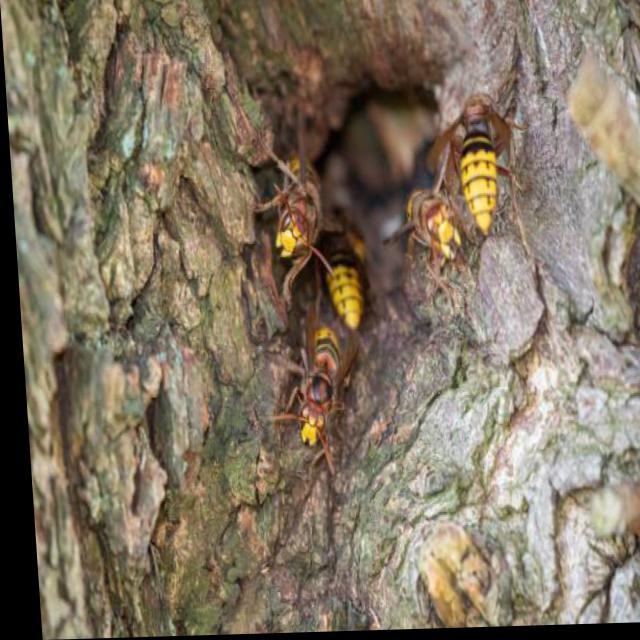Vespa Crabro: (422, 96, 555, 255), (257, 295, 356, 465), (240, 131, 329, 288), (378, 166, 476, 279), (307, 197, 379, 335)
